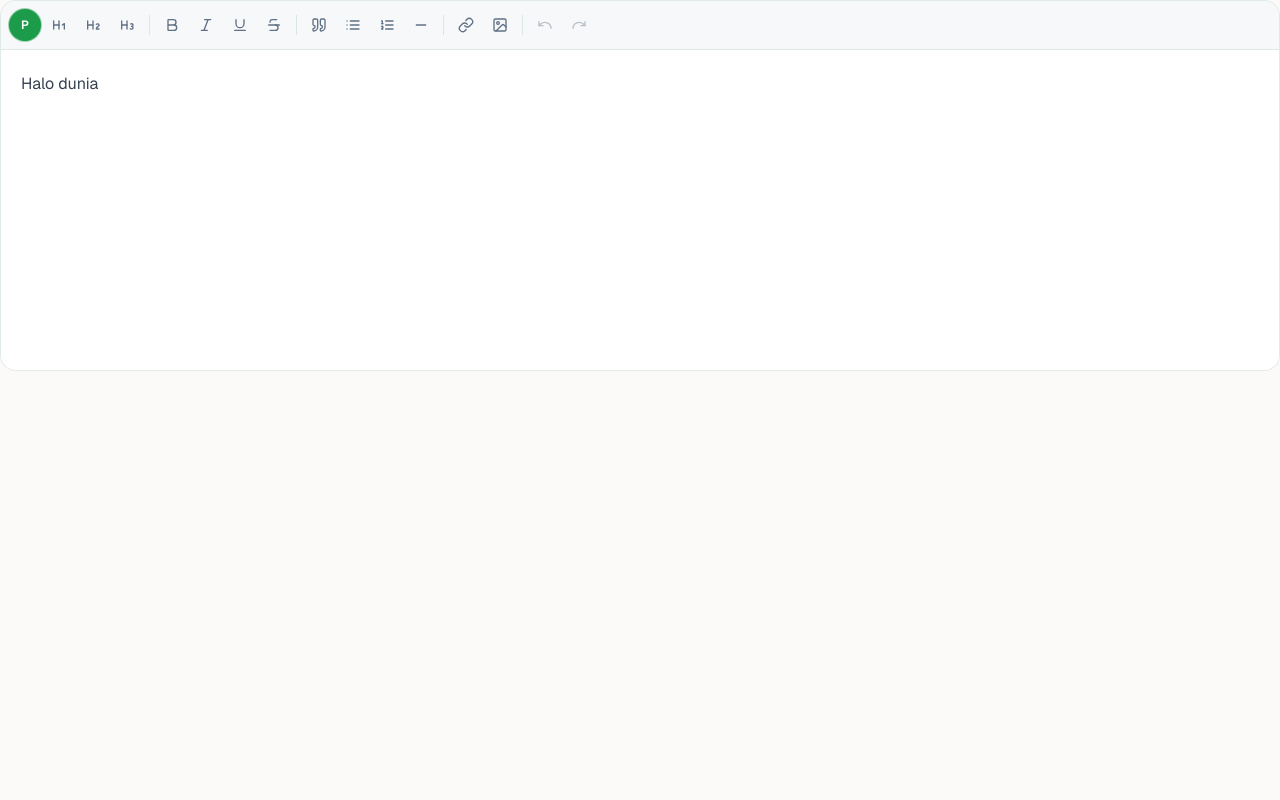
it: RichTextEditor Component › opens link dialog, inputs URL, and closes dialog on submit
Click the button named "Sisipkan Tautan".
click(466, 25)  # box left=450, top=9, right=482, bottom=41
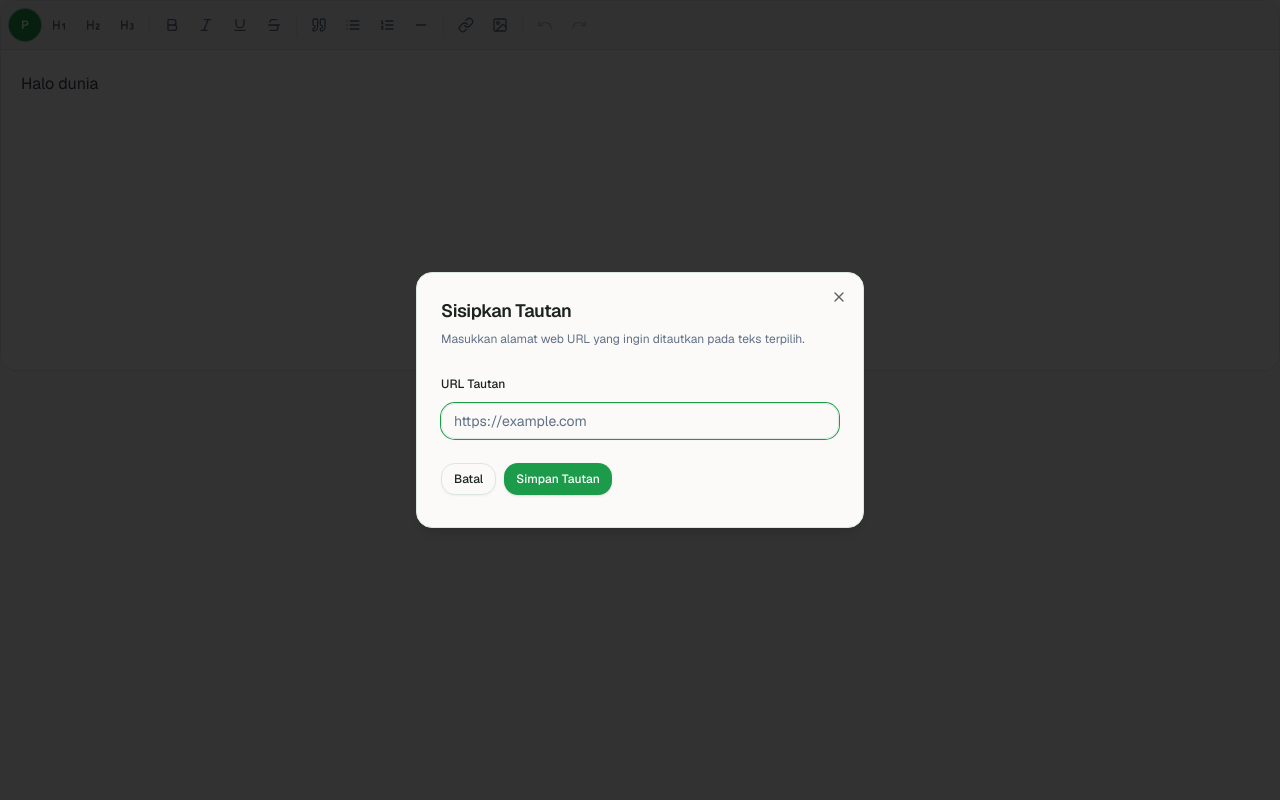
Expected: the heading "Sisipkan Tautan" is shown, left=441, top=299, right=571, bottom=322
Type "https://mim-pk-dimoro.sch.id" into the field with placeholder "https://example.com".
click(640, 421); type("https://mim-pk-dimoro.sch.id")  # box left=441, top=403, right=839, bottom=439
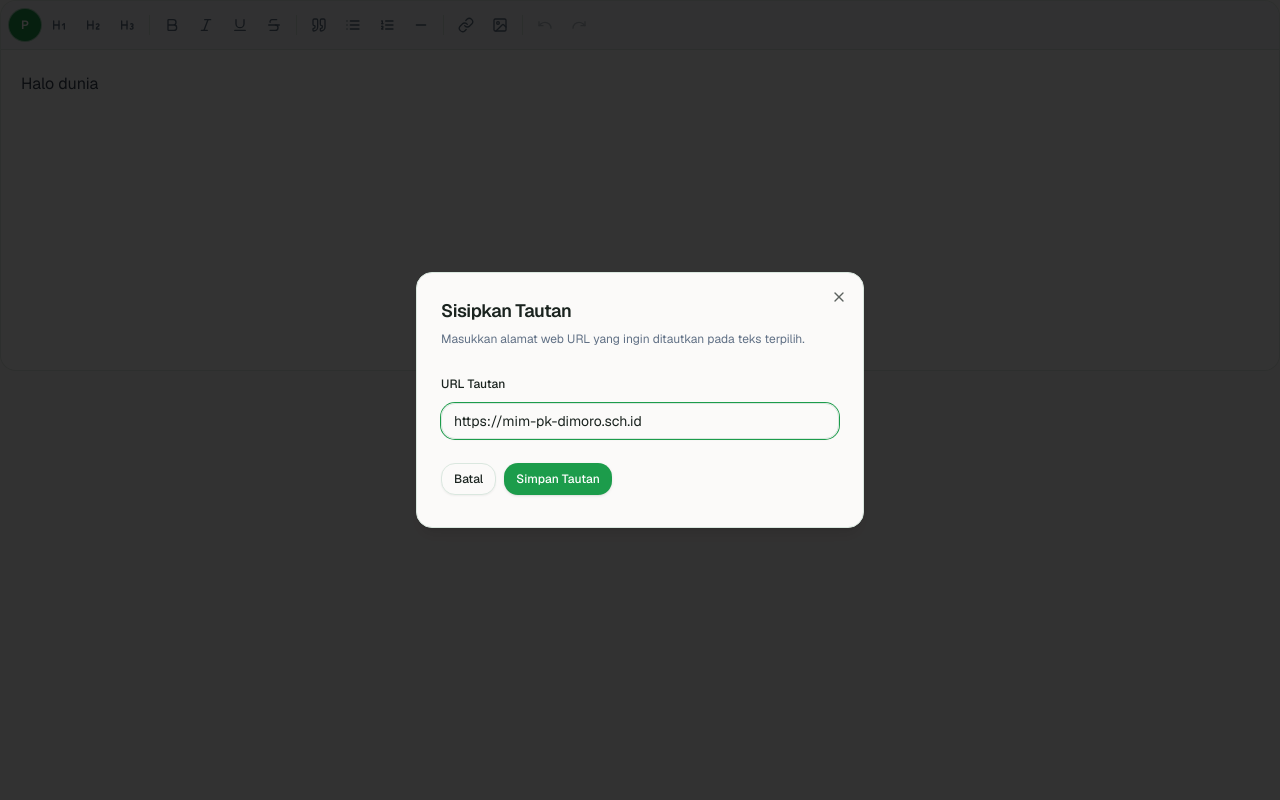
Click the button "Simpan Tautan".
click(558, 479)  # box left=504, top=463, right=612, bottom=495
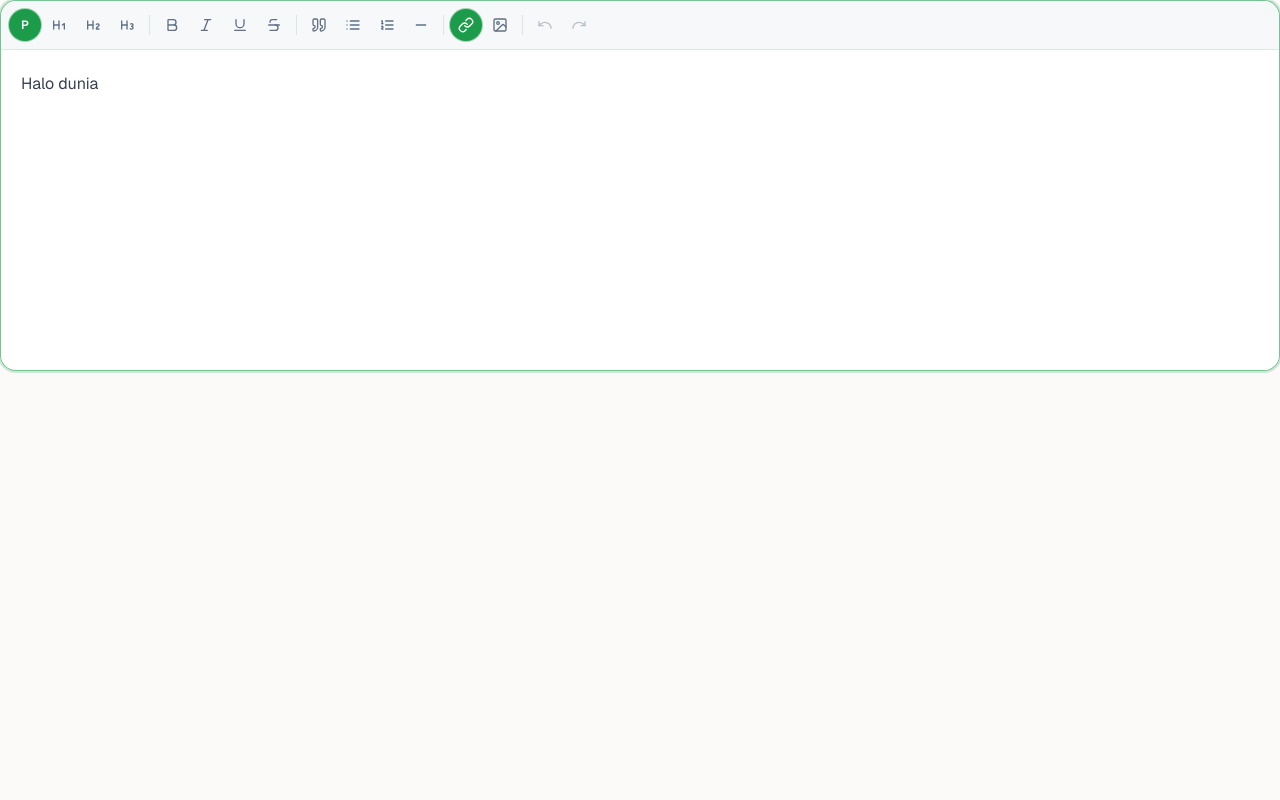
Expected: the heading "Sisipkan Tautan" is gone
